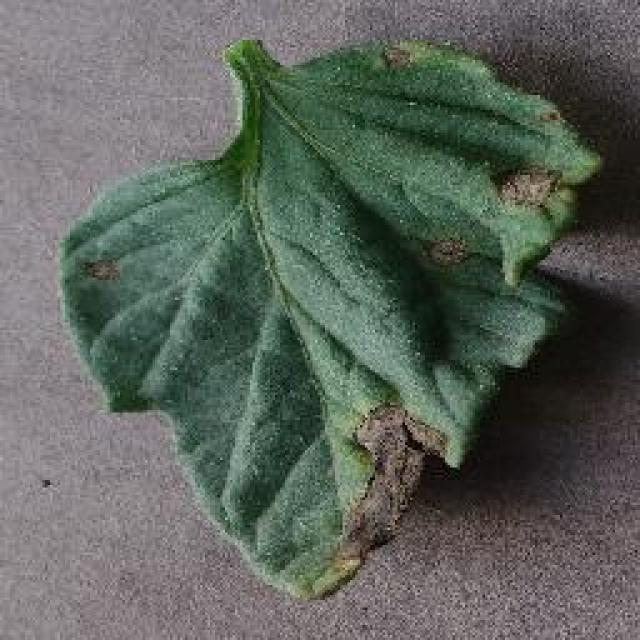Tomato___Early_blight: (60, 28, 607, 605)
